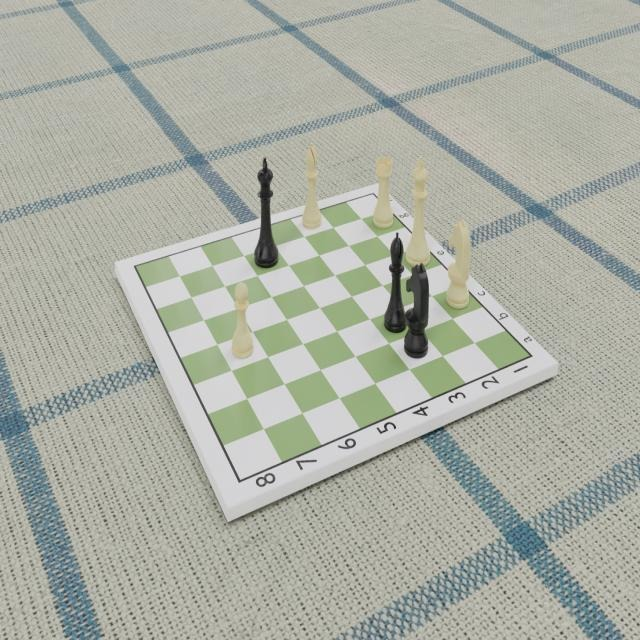black-bishop: (383, 230, 408, 333)
black-king: (253, 154, 281, 270)
black-knight: (403, 261, 429, 361)
white-bishop: (300, 140, 324, 231)
white-king: (403, 154, 432, 268)
white-knight: (444, 218, 471, 310)
white-pawn: (230, 280, 254, 360)
white-rook: (373, 155, 395, 229)
